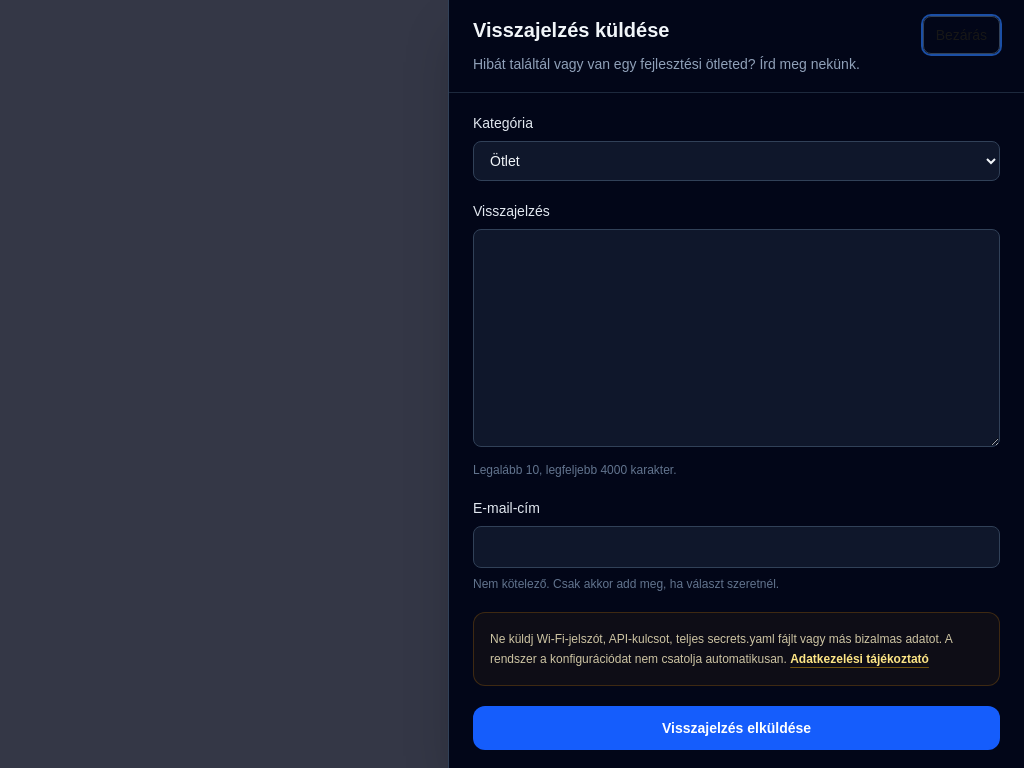
Test: FeedbackDrawer › submits the entered feedback
Select "Hiba" in the dropdown labelled "Kategória" at (736, 161), box [473,141,1000,181]
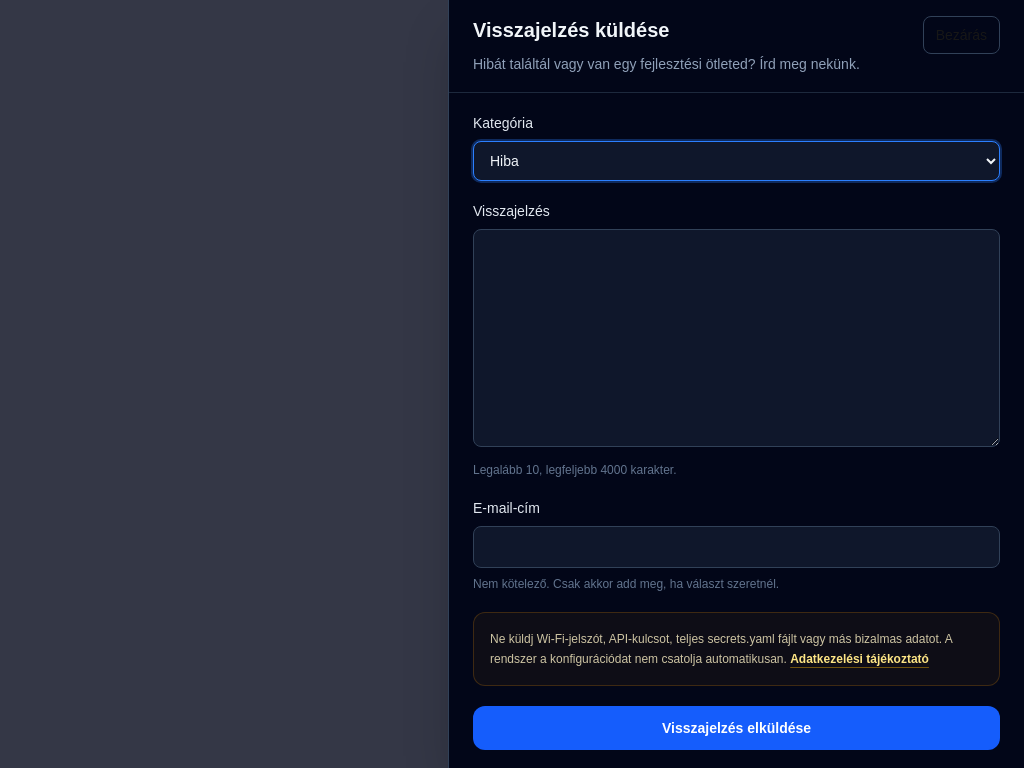
Type "A generálás közben hiba jelent meg." into the text box labelled "Visszajelzés".
click(736, 338); type("A generálás közben hiba jelent meg.")  # box [473,229,1000,447]
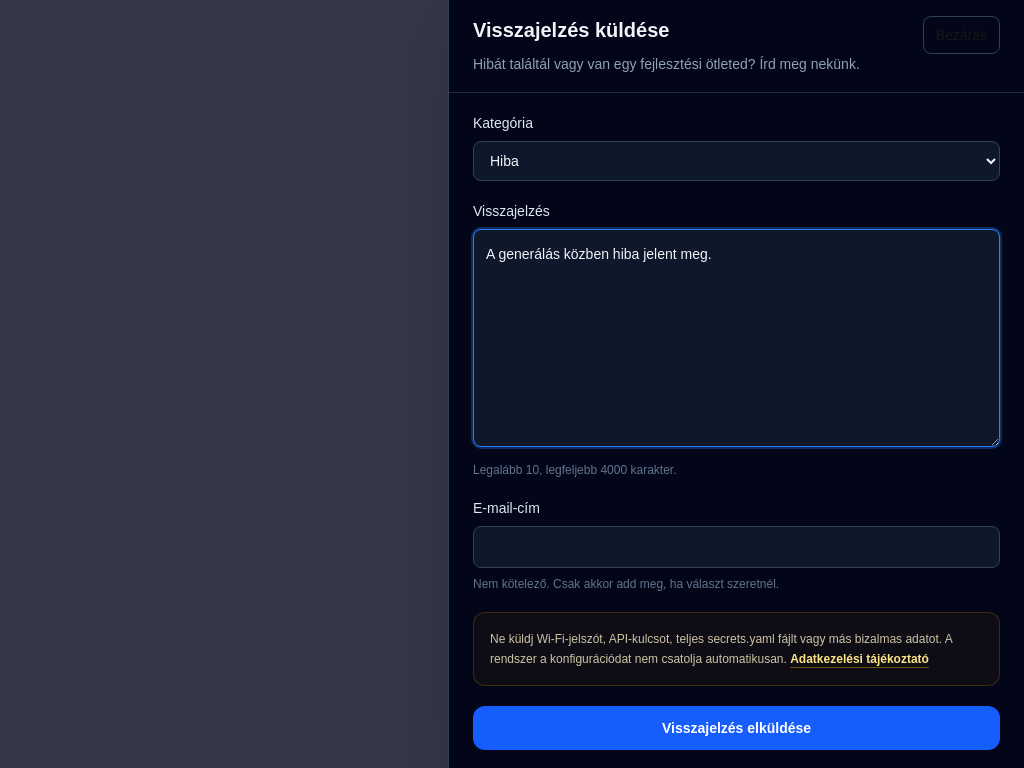
Type "user@example.com" into the field labelled "E-mail-cím".
click(736, 547); type("user@example.com")  # box [473,526,1000,568]
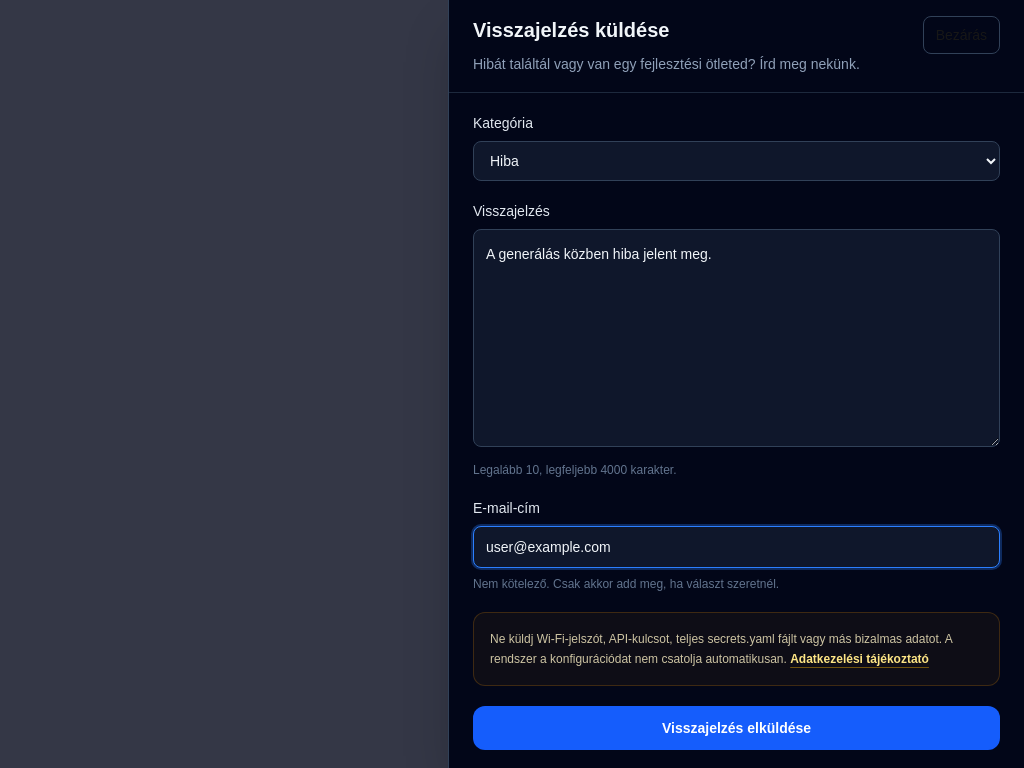
Click the button "Visszajelzés elküldése".
click(736, 728)  # box [473,706,1000,750]
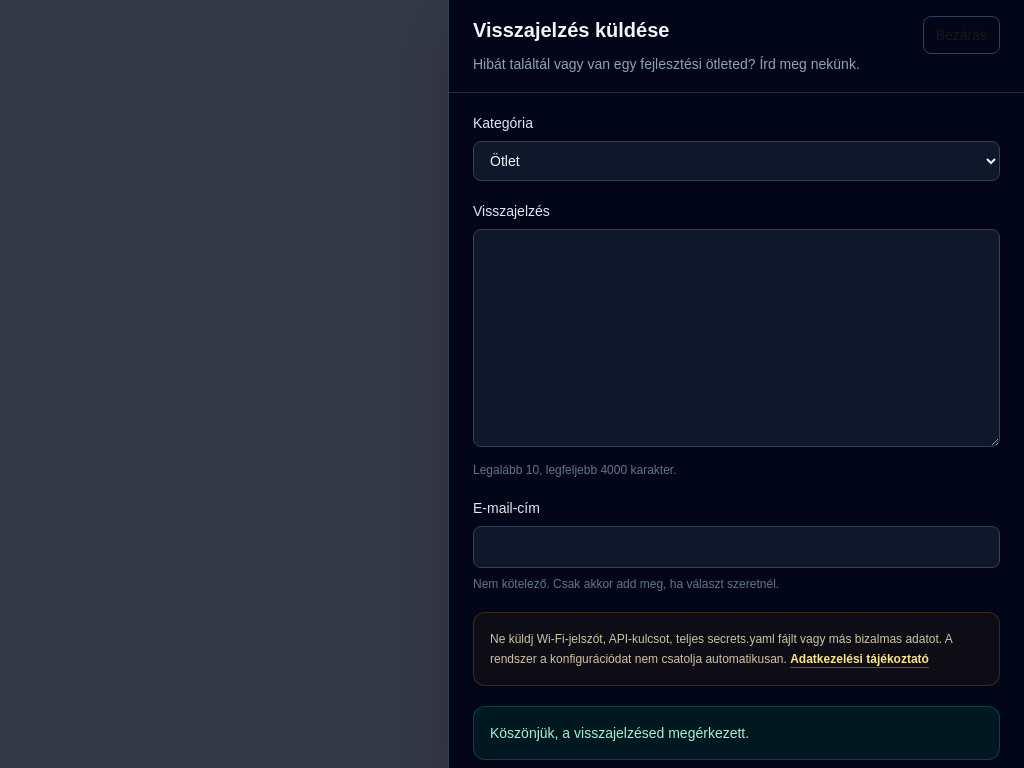
Result: the message shows "Köszönjük" at [490,725,749,741]
